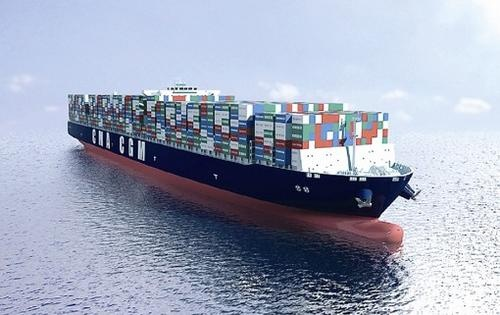Cargoship: (63, 80, 420, 248)
